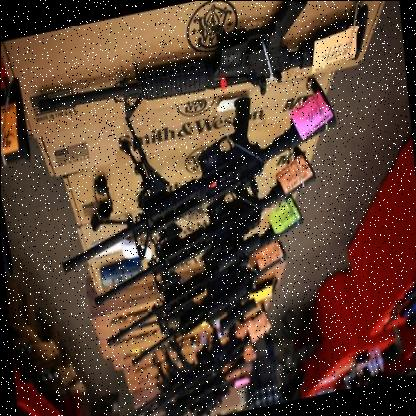rifle: (47, 75, 346, 279), (32, 0, 362, 136)
